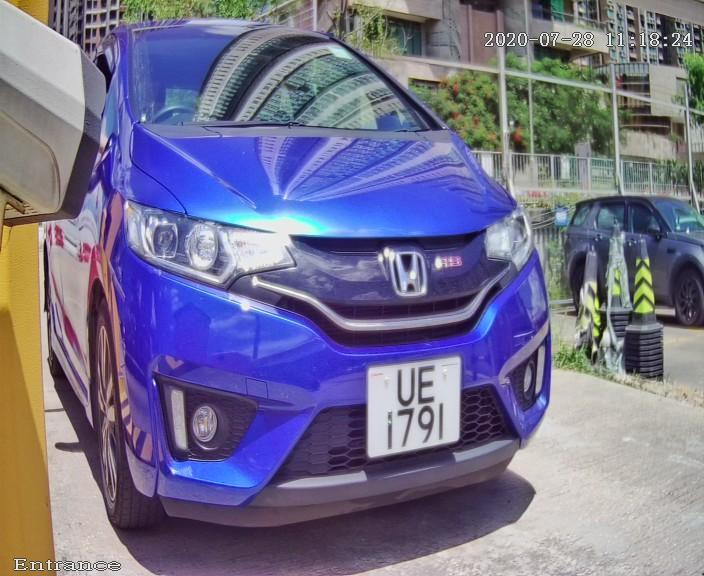privatecar: (16, 11, 620, 566)
